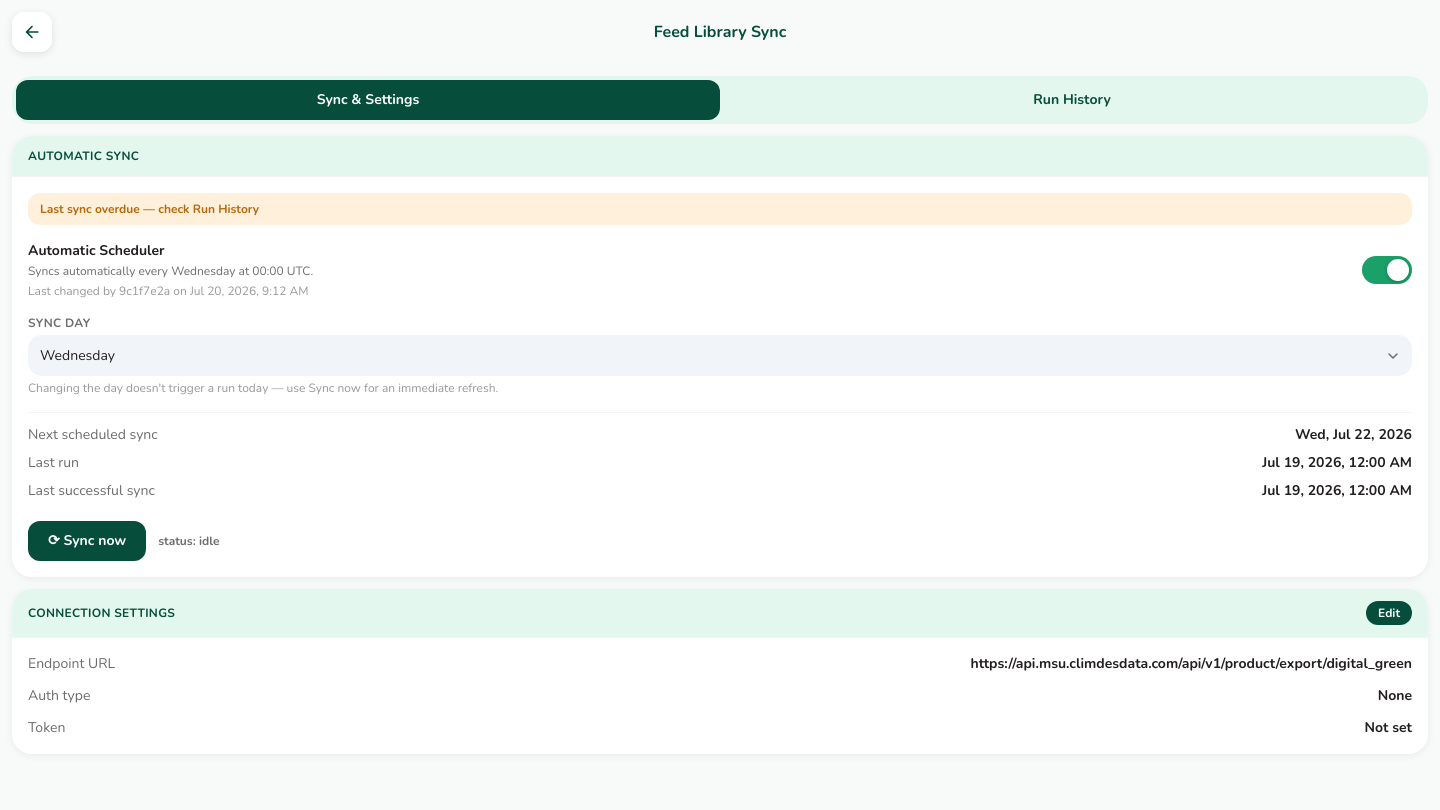
Test: Admin Feed Library Sync — Sync & Settings tab › View details on the result summary switches to Run History and opens that run's drawer
This screenshot has width=1440, height=810.
expect the text "Automatic Scheduler" is shown: met, box [28,241,165,260]
Click the button "⟳ Sync now" at (87, 541), box [28,521,146,561]
Wait 4000 ms
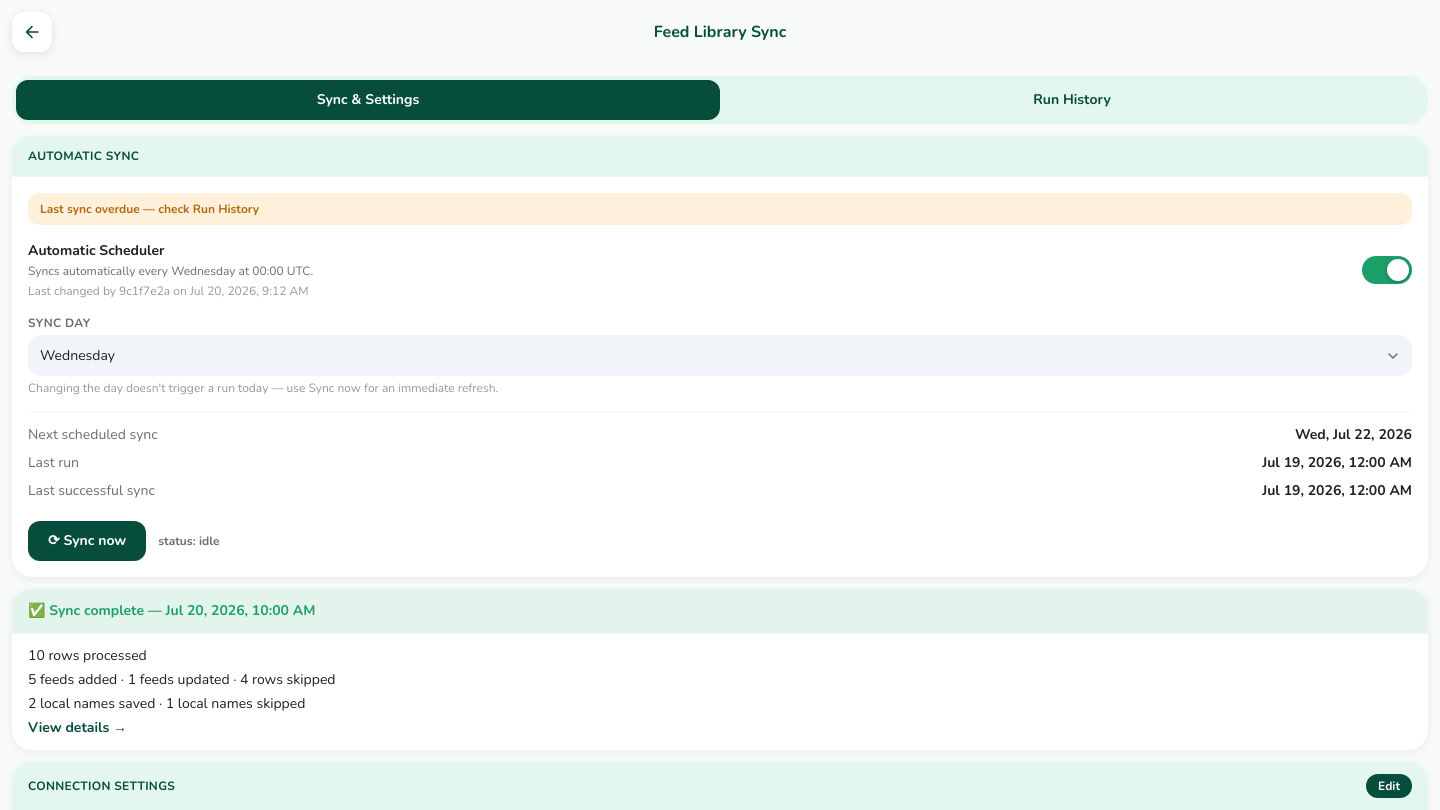
expect the text "✅ Sync complete — Jul 20, 2026, 10:00 AM" is shown: met, box [28,601,315,620]
Click the button "View details →" at (78, 728), box [28,718,127,738]
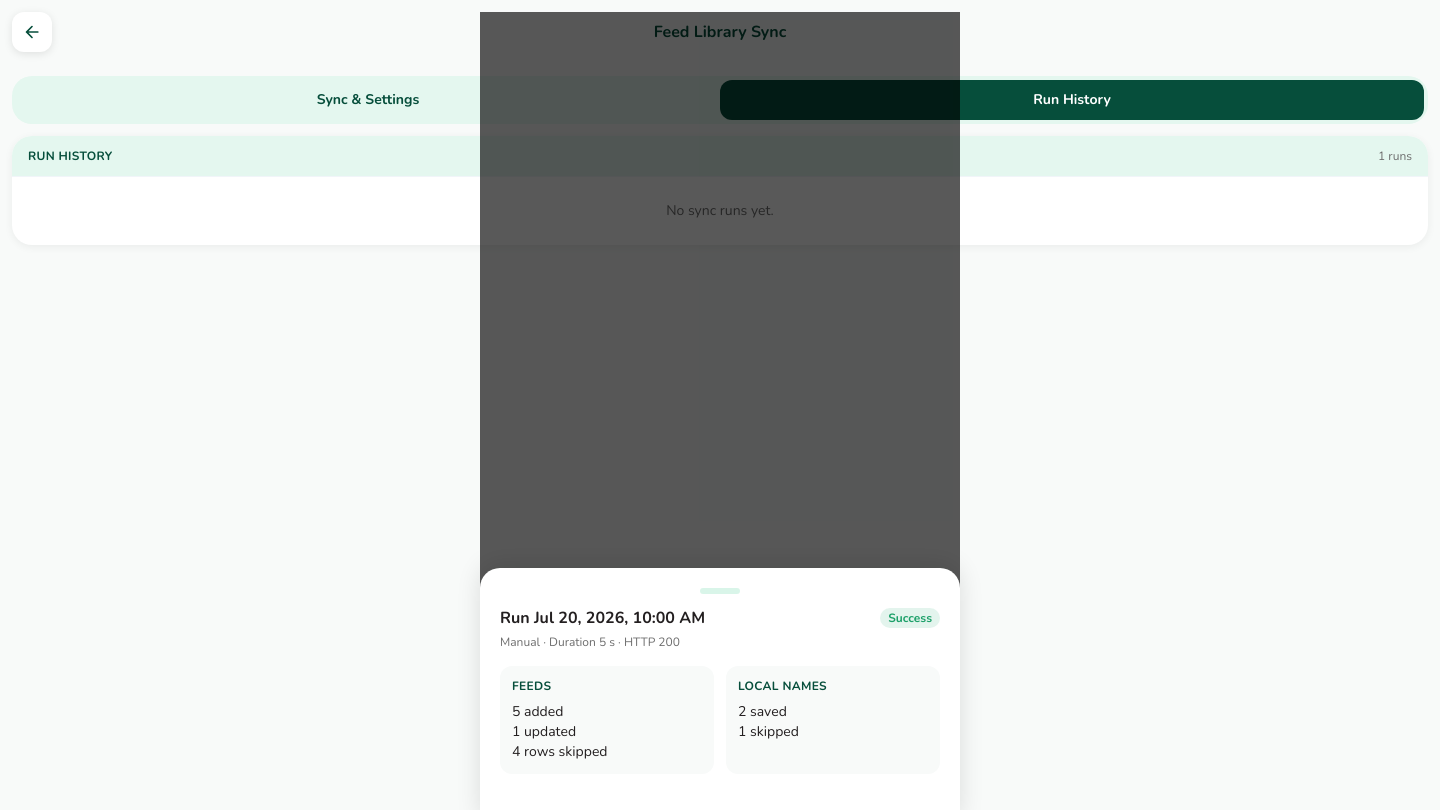
expect the text "Manual · Duration 5 s · HTTP 200" is shown: met, box [500,634,680,650]
